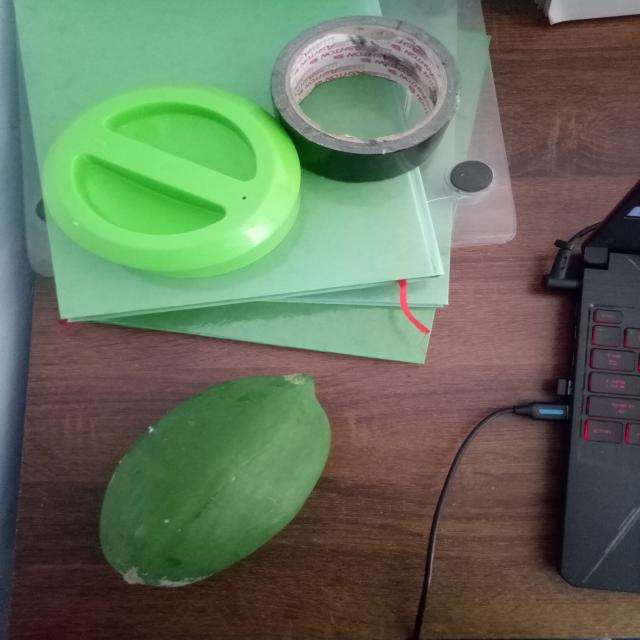Pepaya unrippen: (91, 371, 336, 597)
